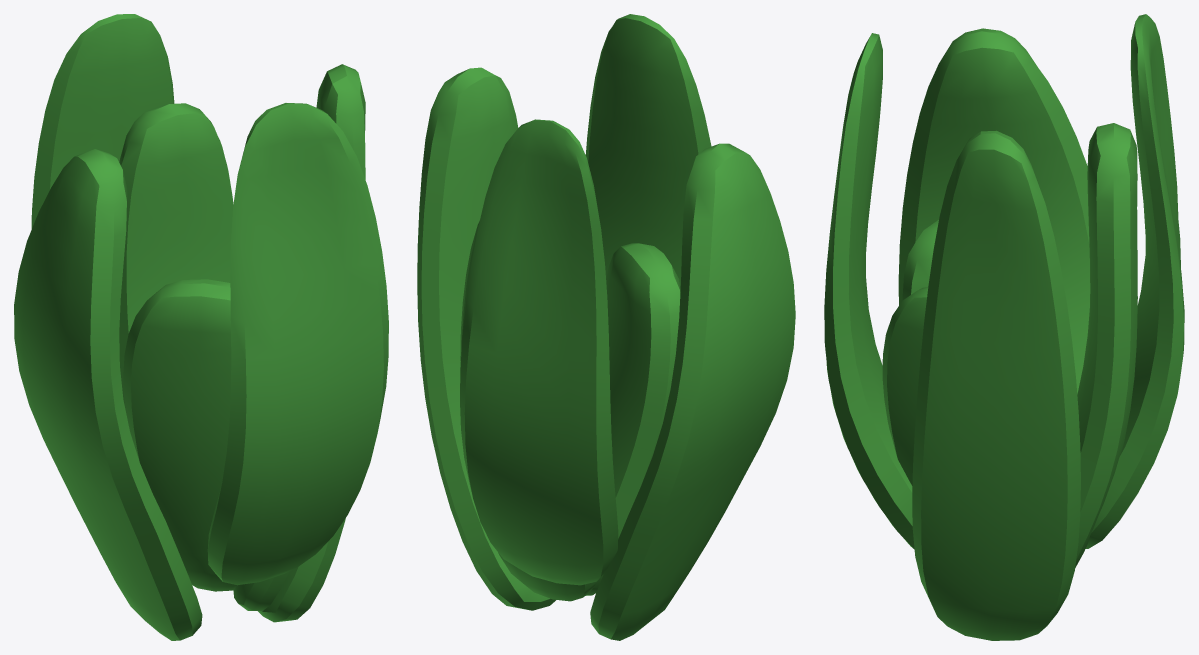
Rendered from carrot_sapling.glb.
The picture shows the model from 3 angles, left to right: view 1: azimuth 30°, elevation 25°; view 2: azimuth 150°, elevation 25°; view 3: azimuth 270°, elevation 25°; orthographic projection. The views are drawn at different scales.
Visible parts, largest first — view 1: Plane.003; view 2: Plane.003; view 3: Plane.003.
Part boxes in pixels (<box>): Plane.003: <box>14,14,388,640</box>; Plane.003: <box>417,14,795,640</box>; Plane.003: <box>824,14,1184,640</box>.
Bounding box in the file's own units: 0.2813 × 0.4706 × 0.2661.
